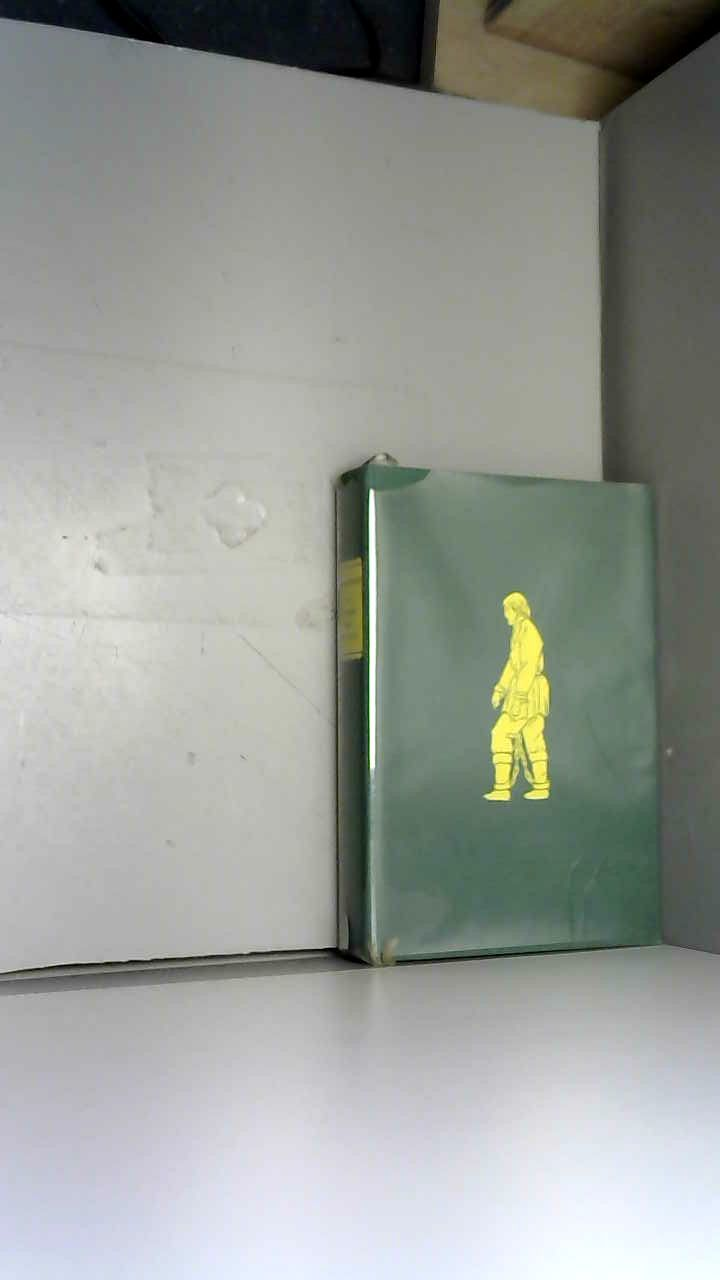book: (296, 410, 692, 1015)
